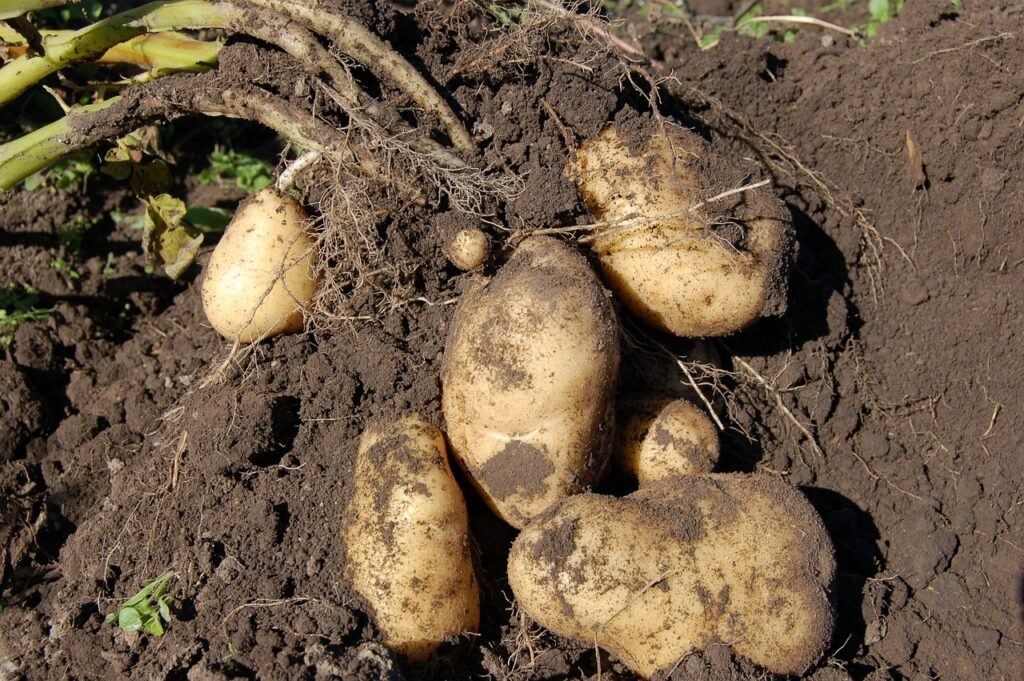potato: (425, 234, 617, 541)
